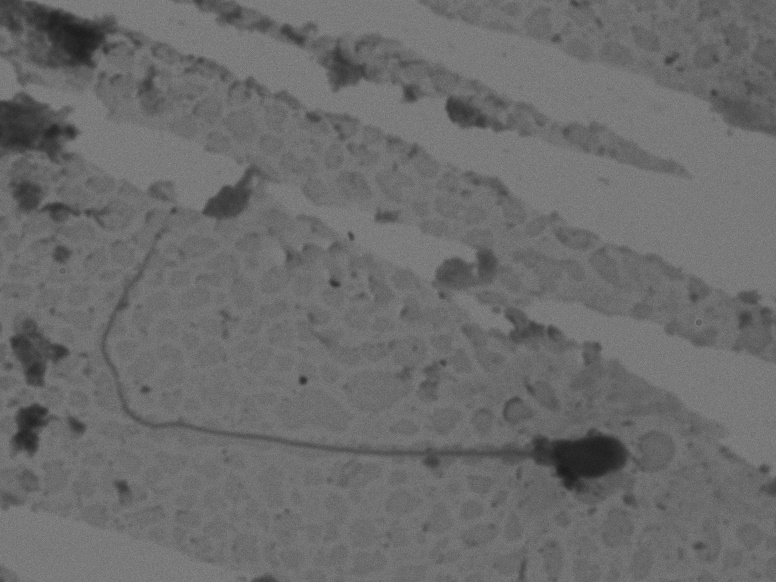Abnormal: (99, 220, 636, 538)
